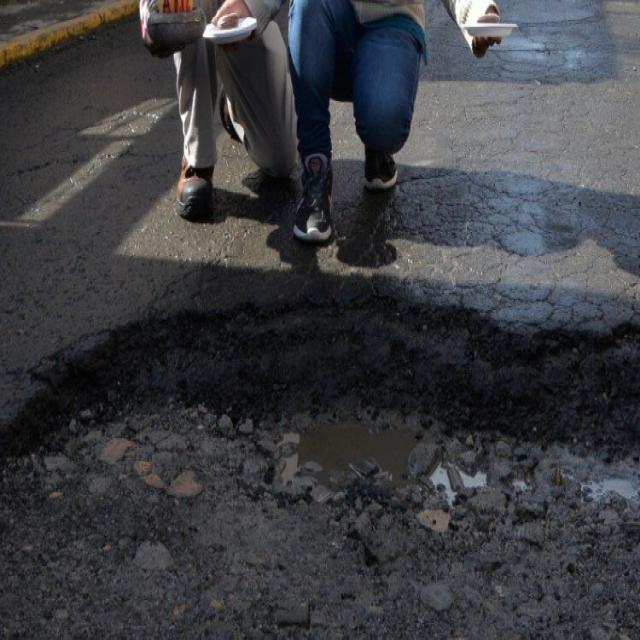Pothole: (31, 257, 640, 554)
